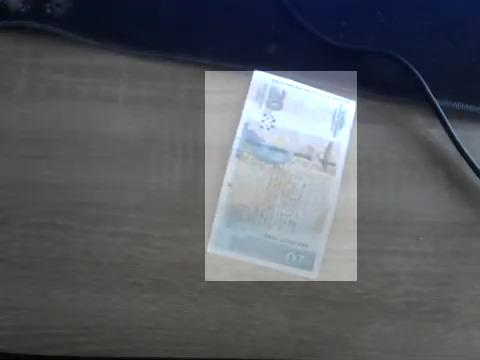20leva: (205, 71, 357, 281)
